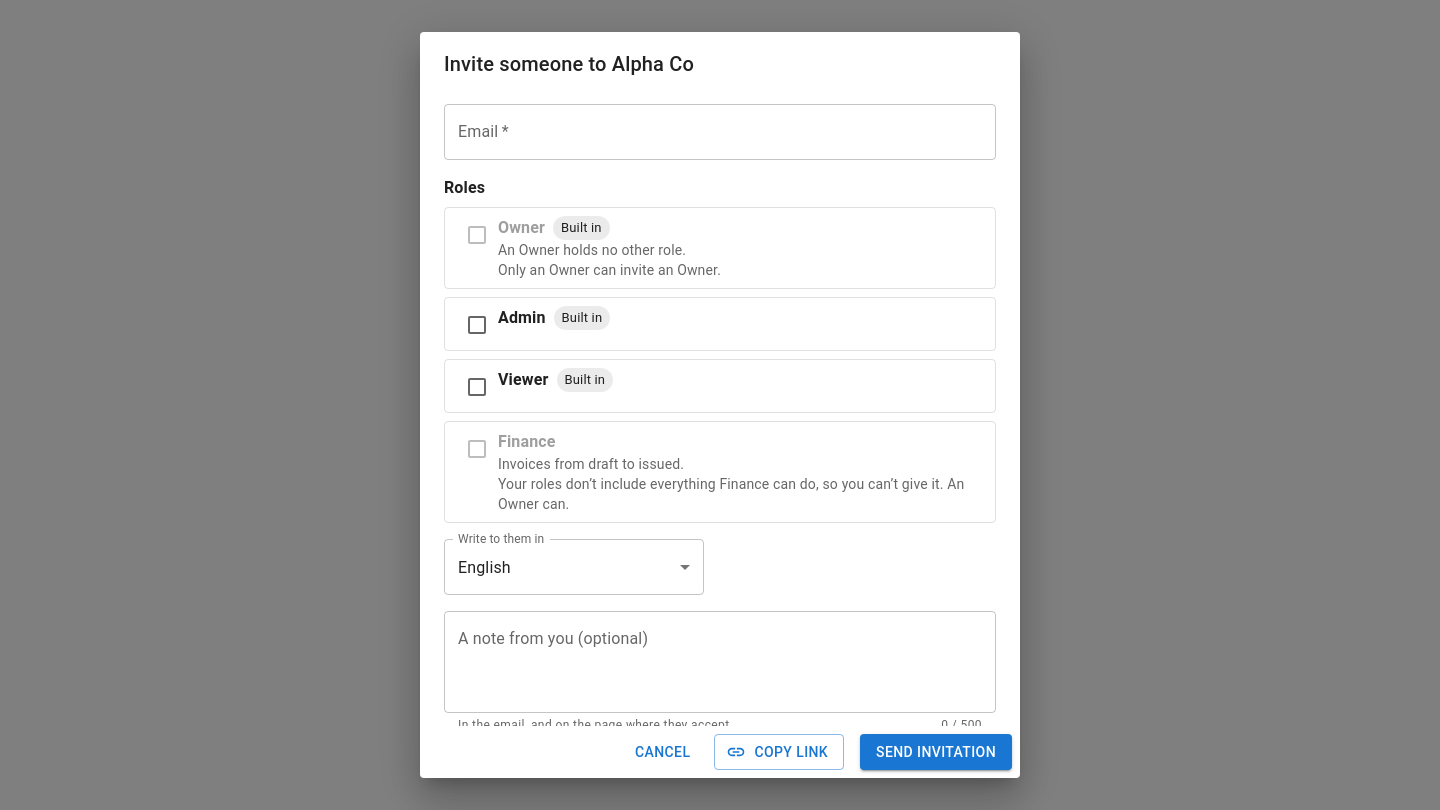
InviteDialog (ADR-077) › offers no Resend on an invitation naming a role the inviter cannot give
Click the checkbox labelled "Viewer".
click(523, 380)  # box [444,359,996,413]
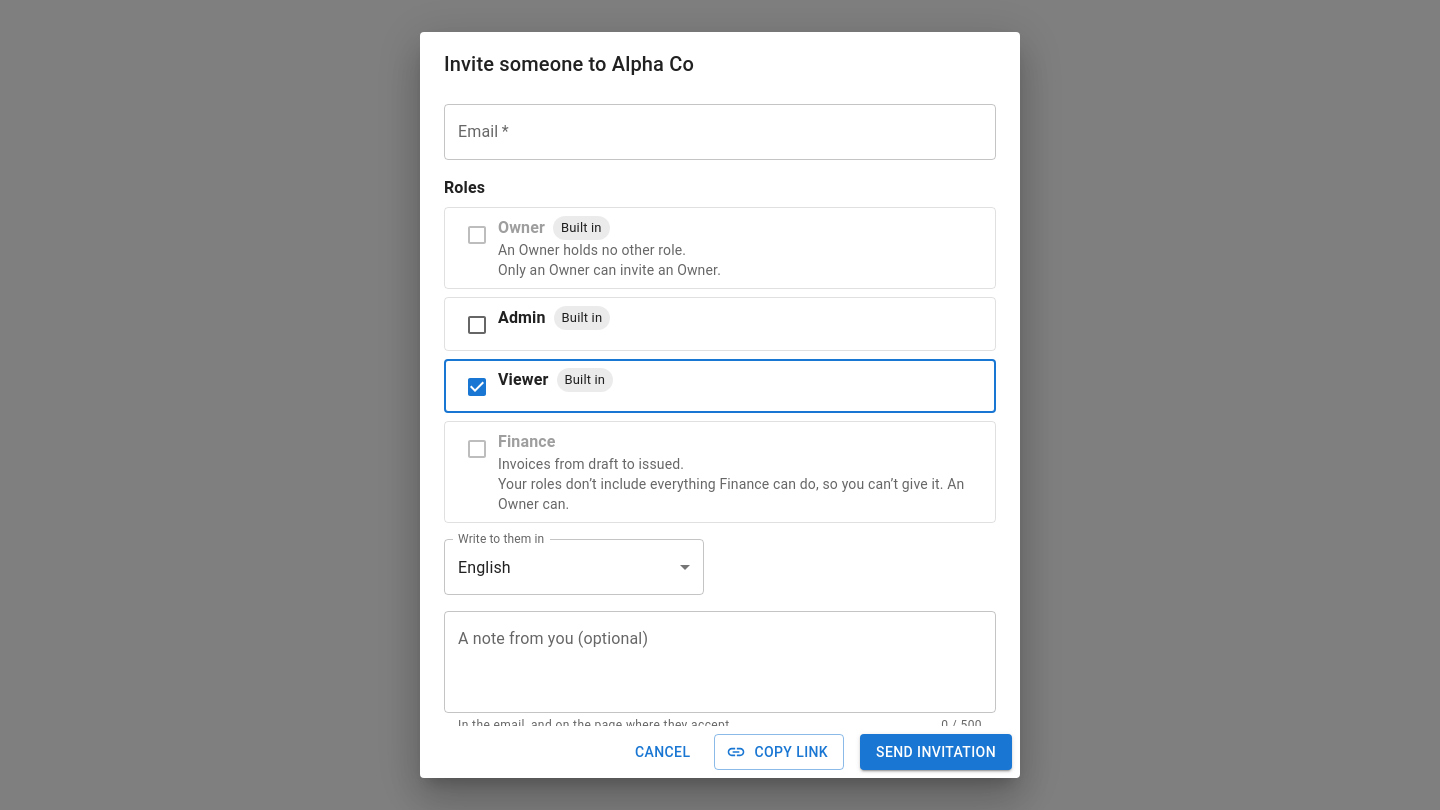
Type "sam@example.com" into the field labelled "Email".
click(720, 132); type("sam@example.com")  # box [444,104,996,160]
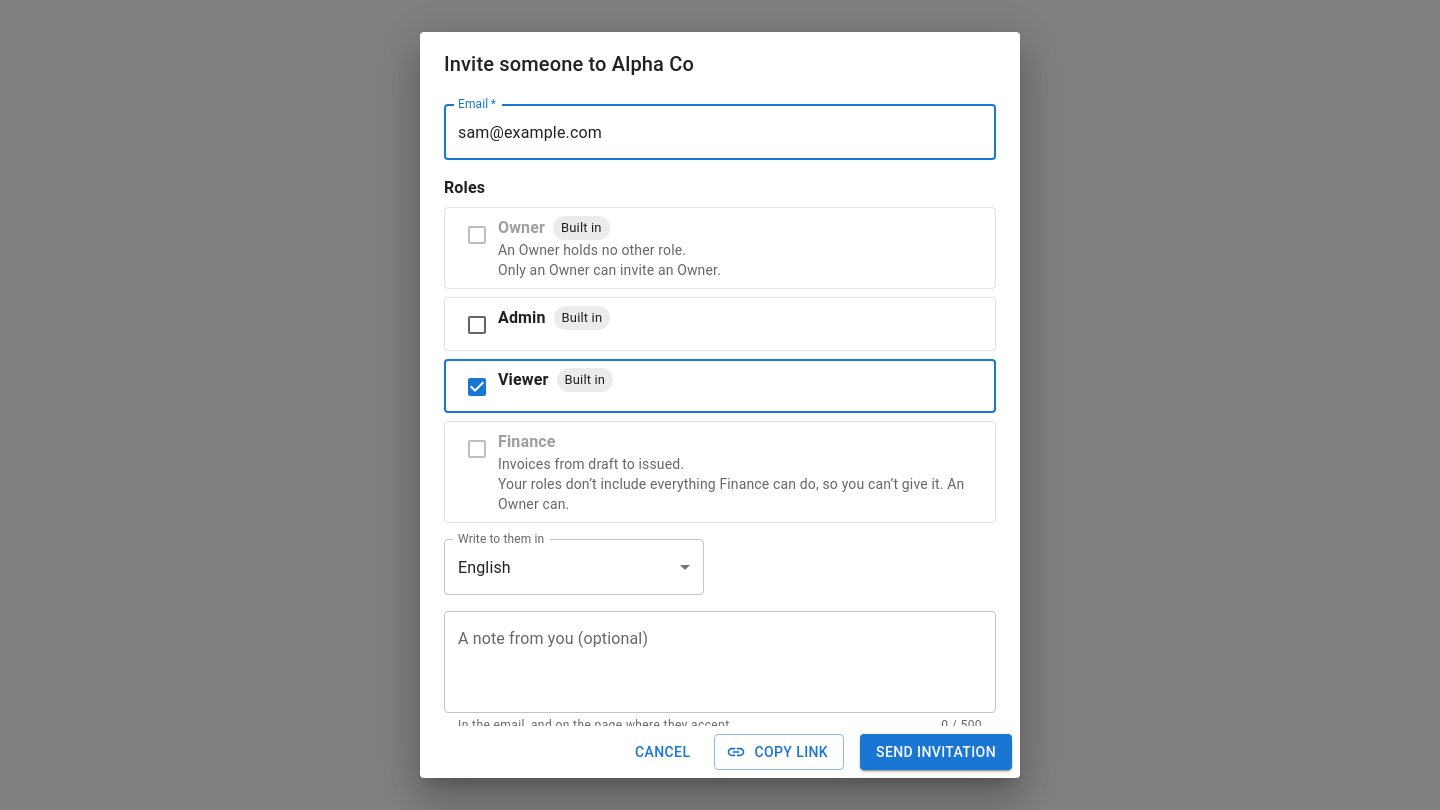
Click the button "Send invitation".
click(936, 752)  # box [860,734,1012,770]
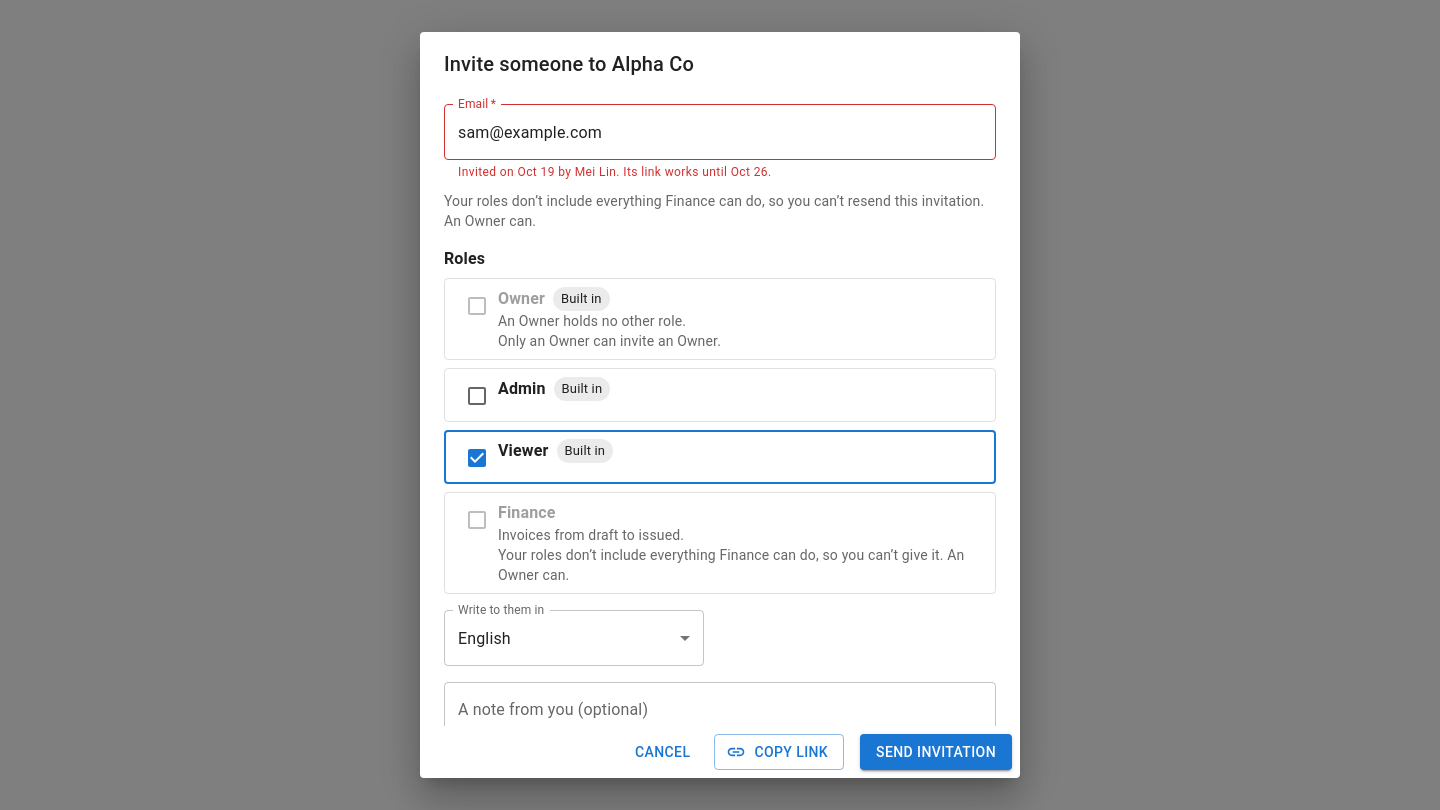
Now the text "Your roles don’t include everything Finance can do, so you can’t resend this invitation. An Owner can." is shown, box [444,193,984,229]
